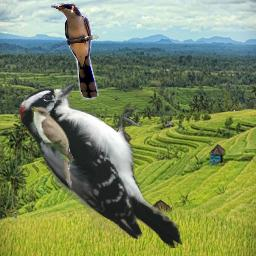Cuckoo: (51, 3, 99, 100), (27, 104, 75, 194)
Woodpecker: (19, 83, 182, 248)
